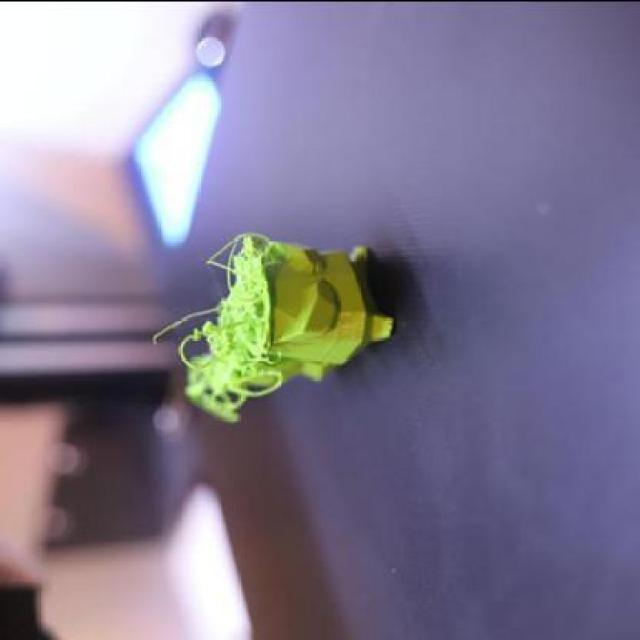spaghetti: (153, 232, 286, 426)
